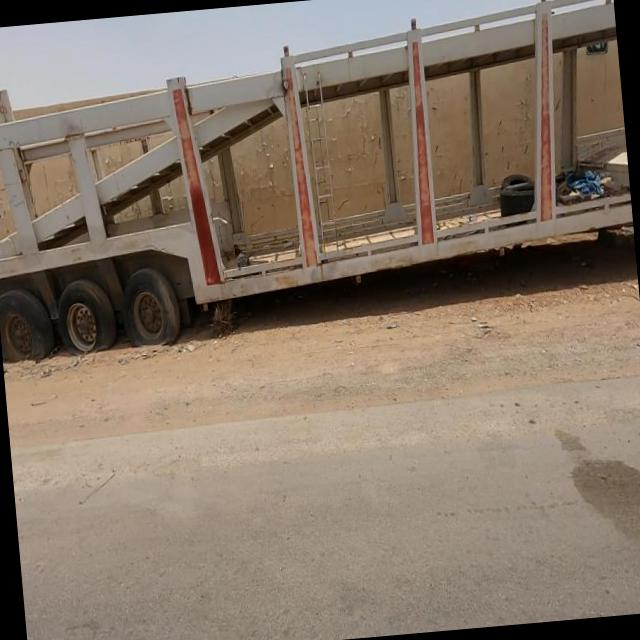debris: (520, 120, 636, 264), (472, 120, 566, 268), (160, 314, 217, 386)
